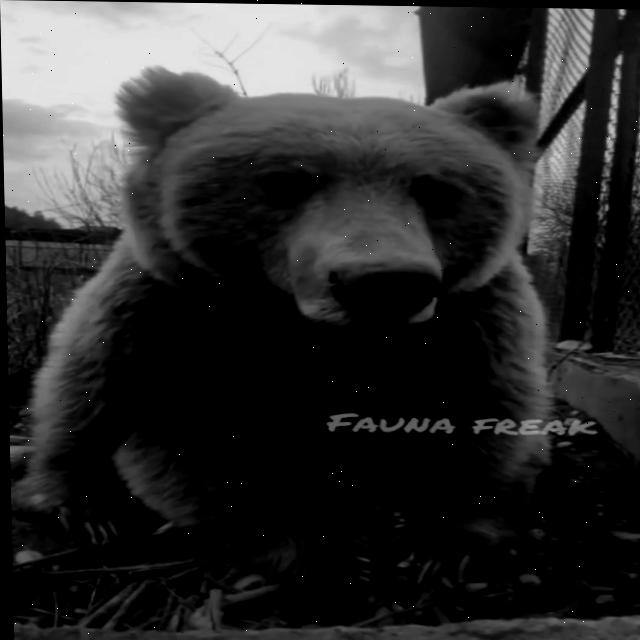Bear: (3, 62, 561, 617)
